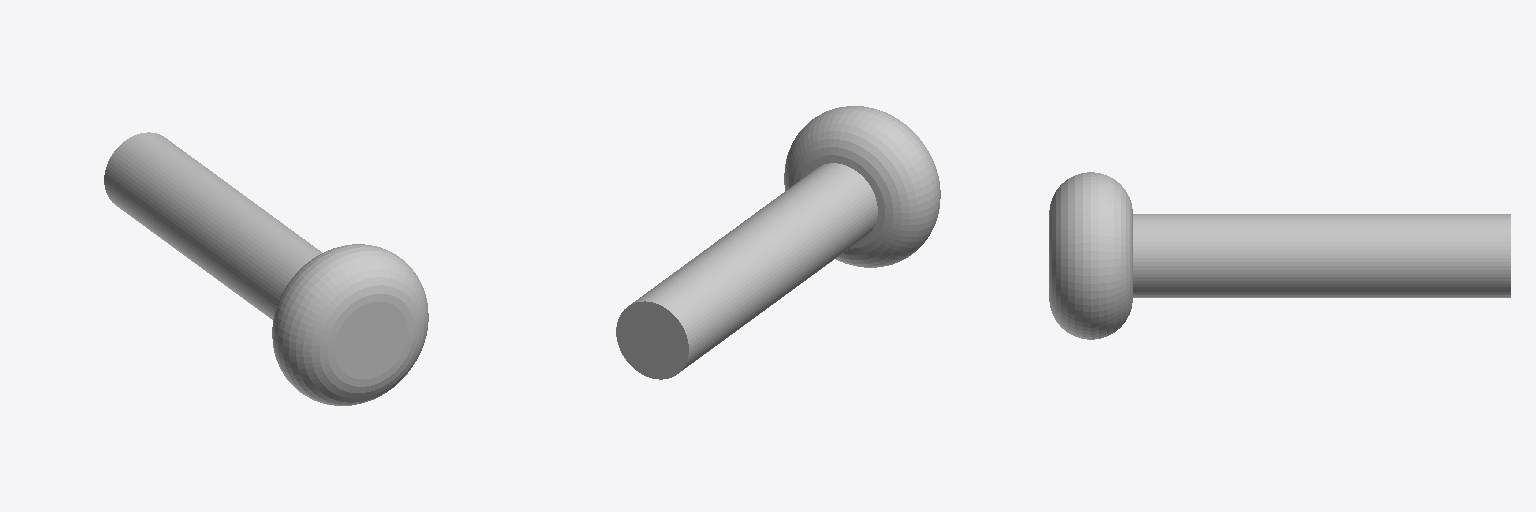
Rendered from plunger.obj.
3 renders of one model, left to right at view 1: azimuth 30°, elevation 25°; view 2: azimuth 150°, elevation 25°; view 3: azimuth 270°, elevation 25°, orthographic.
Parts seen in each view (by area): view 1: Plunger.004_Cylinder.026; view 2: Plunger.004_Cylinder.026; view 3: Plunger.004_Cylinder.026.
Part boxes in pixels (x1,y1,x2,y2): Plunger.004_Cylinder.026: (104, 132, 428, 405); Plunger.004_Cylinder.026: (616, 106, 940, 379); Plunger.004_Cylinder.026: (1049, 172, 1510, 339).
Bounding box in the file's own units: 1 × 1 × 2.75.